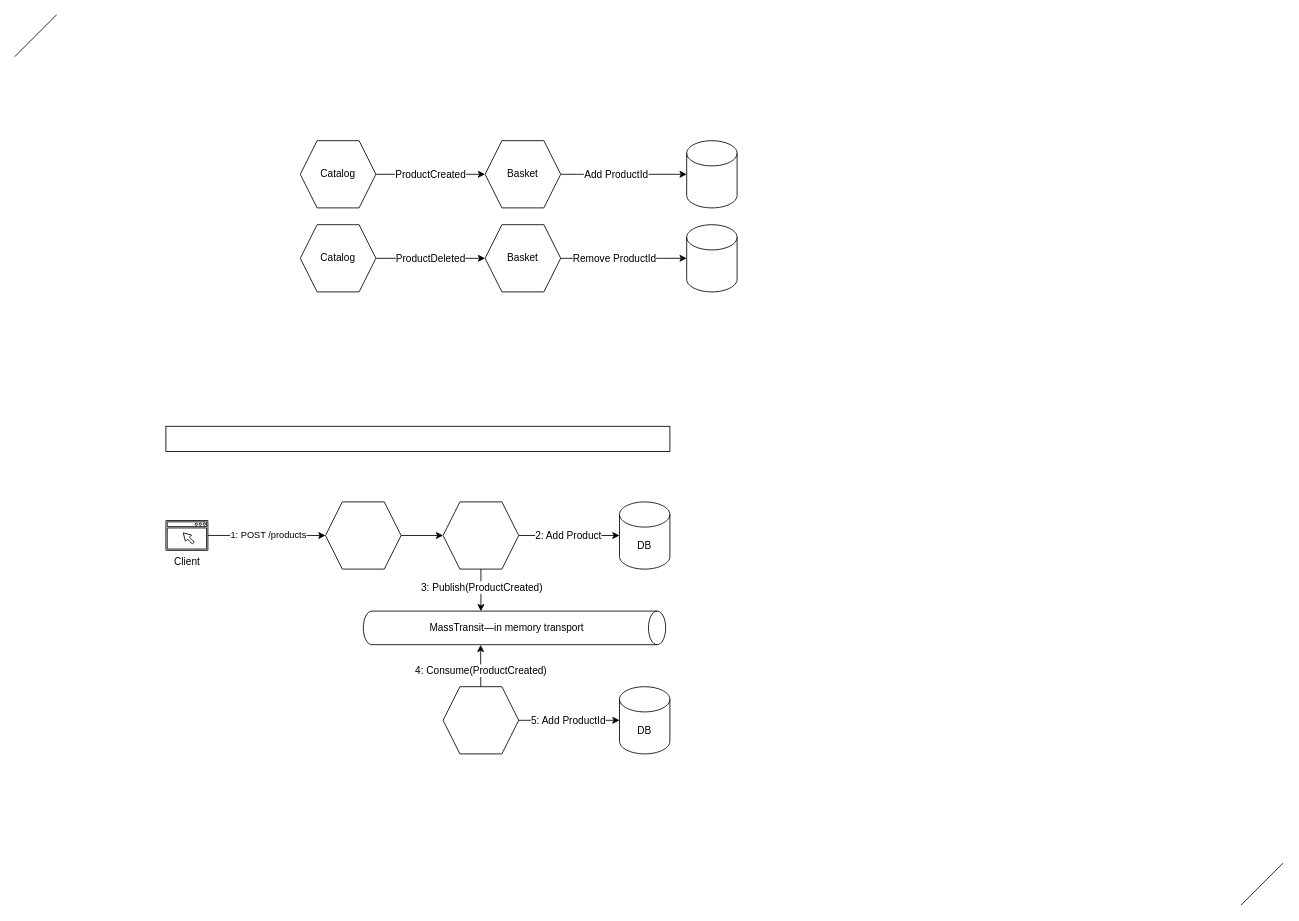
Some shapes in this 1299 by 921 pixel diagram are drawn without their labels. Here are the shapes that lost their labels. From the top down, the centre of each, then its label:
the point at 417,438: 600px width (MAX)
the point at 363,535: Aggregator (API)
the point at 480,535: Catalog (module)
the point at 480,720: Basket (module)
